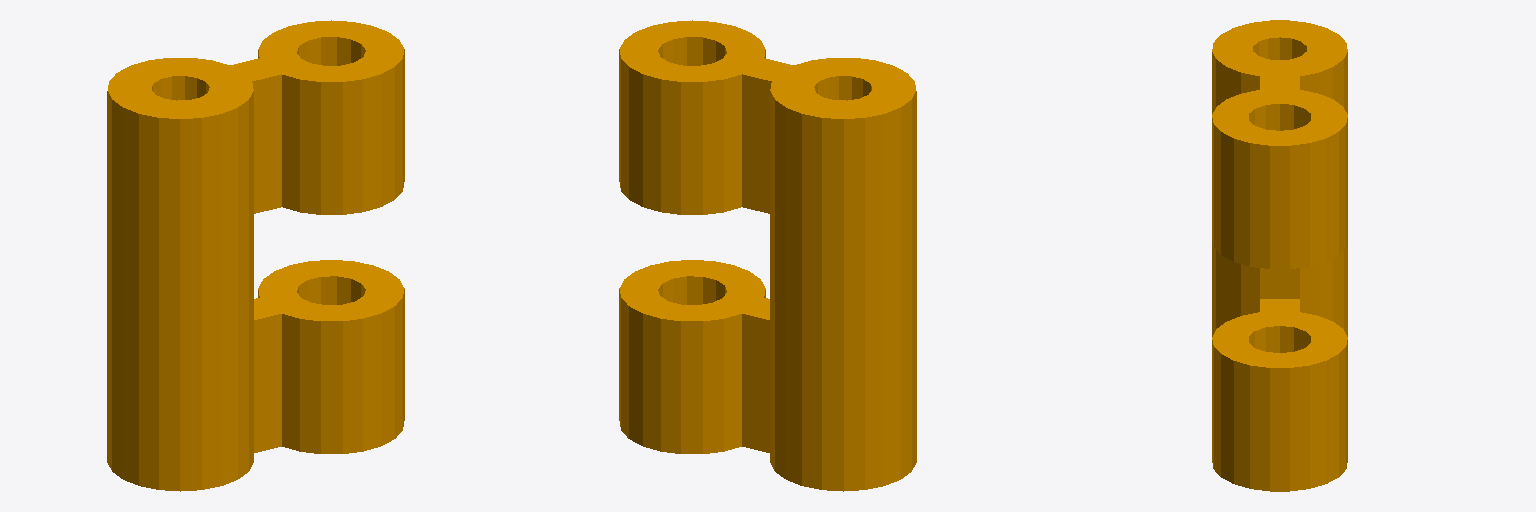
URDF robot description (01053_plug):
<?xml version="1.0"?>
<robot name="01053_plug">
	<link name="01053_plug">
		<visual>
			<geometry>
				<mesh filename="../mesh/01053/asset_plug.obj"/>
			</geometry>
		</visual>
		<collision>
			<geometry>
				<mesh filename="../mesh/01053/asset_plug.obj"/>
			</geometry>
			<sdf resolution="256"/>
		</collision>
	</link>
</robot>

--- What the picture shows (computed from the rendered views, not written in the file) ---
Views: 3 orthographic renders of the robot side by side, from view 1: azimuth 30°, elevation 25°; view 2: azimuth 150°, elevation 25°; view 3: azimuth 270°, elevation 25°.
Model 01053_plug with 1 links and 0 joints (none), rooted at 01053_plug, posed all joints at 0.
Links seen in each view (by area): view 1: 01053_plug; view 2: 01053_plug; view 3: 01053_plug.
Boxes of the visible links, x1,y1,x2,y2 form: 01053_plug: (107,20,404,491); 01053_plug: (619,20,916,491); 01053_plug: (1212,20,1347,491).
Size in the robot's own frame: 0.034 by 0.0156 by 0.0438 metres.
1 mesh visuals loaded from 1 distinct referenced files (1 OBJ).